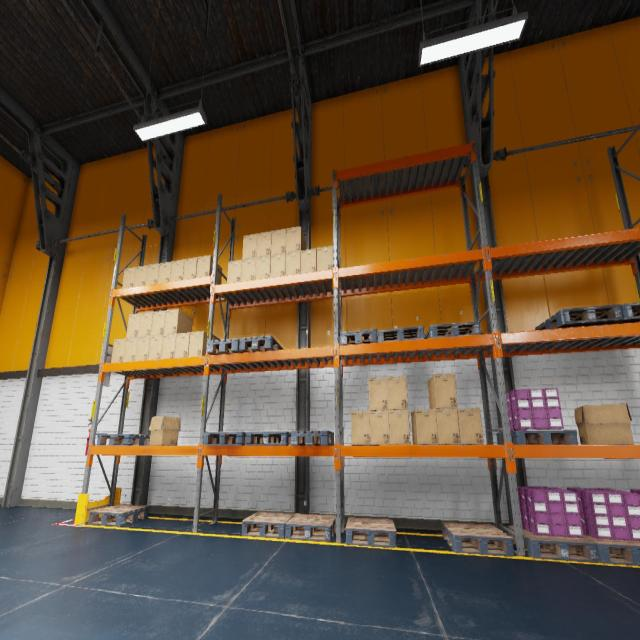box: (574, 403, 634, 444), (428, 374, 457, 408), (411, 409, 438, 444), (148, 416, 180, 445), (458, 408, 483, 444), (436, 408, 460, 444), (196, 255, 222, 284), (369, 410, 390, 445), (387, 376, 408, 410), (389, 410, 410, 444), (188, 331, 216, 356), (164, 309, 192, 334), (368, 377, 388, 410), (351, 410, 370, 444), (286, 226, 306, 252), (174, 332, 190, 358), (150, 310, 166, 336), (317, 245, 333, 271), (256, 231, 272, 257), (271, 228, 286, 255), (300, 248, 316, 273), (242, 233, 257, 259), (285, 251, 301, 275), (148, 335, 163, 360), (111, 338, 126, 363), (138, 312, 153, 337), (255, 256, 271, 279), (161, 334, 176, 358), (126, 314, 141, 338), (270, 253, 285, 277), (123, 338, 138, 361), (241, 258, 256, 281), (227, 260, 242, 282), (136, 337, 150, 360), (183, 257, 197, 279), (170, 259, 184, 281), (158, 261, 172, 283), (146, 263, 160, 285), (122, 267, 136, 288), (134, 265, 147, 286)
pallets: (507, 525, 599, 563), (442, 522, 514, 557), (535, 304, 623, 329), (583, 533, 640, 566), (345, 516, 397, 548), (242, 511, 295, 539), (286, 514, 336, 542), (88, 504, 149, 526), (496, 430, 578, 444), (424, 322, 481, 338), (606, 302, 640, 324), (378, 326, 424, 342), (239, 336, 283, 352), (340, 328, 378, 345), (291, 430, 334, 445), (246, 431, 290, 445), (203, 431, 246, 445), (207, 338, 242, 355), (96, 434, 150, 445)
